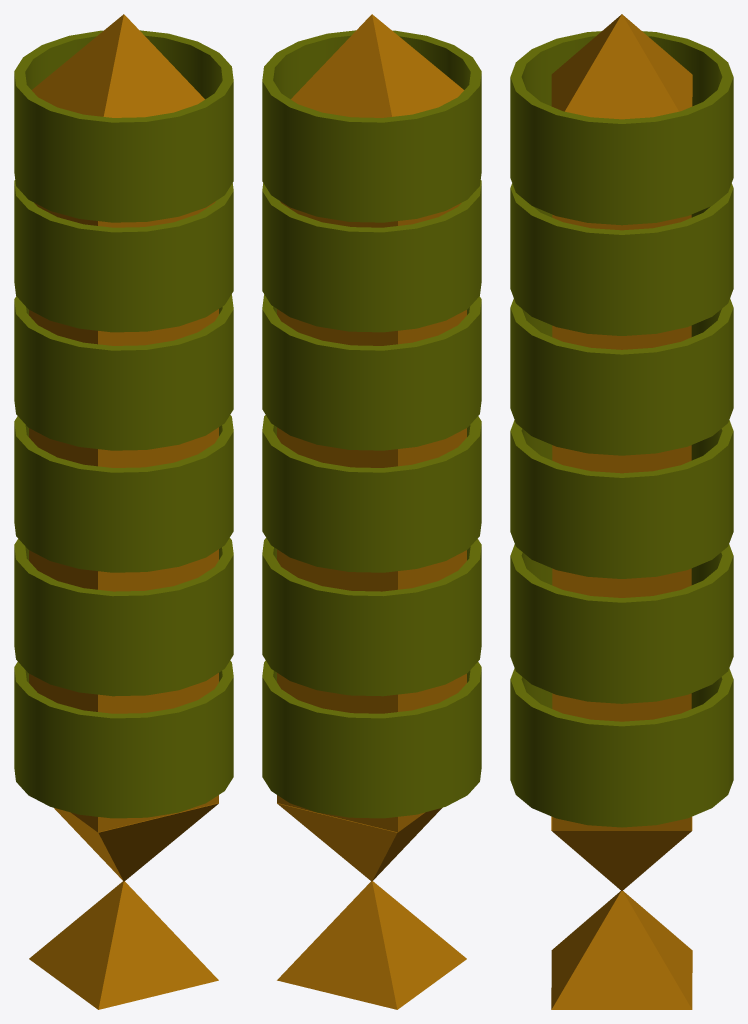
File: Acciavatti_obeliskWithring.fbx
3 views of the same model, side by side, from view 1: azimuth 30°, elevation 25°; view 2: azimuth 150°, elevation 25°; view 3: azimuth 270°, elevation 25° (orthographic).
Visible parts, largest first — view 1: topRing6, Ring2, botRing1, Ring3, Ring4, Ring5, ObeliskBody, ObelsikStand, TopObelisk, botObelisk; view 2: topRing6, Ring2, botRing1, Ring3, Ring4, Ring5, ObeliskBody, ObelsikStand, TopObelisk, botObelisk; view 3: topRing6, Ring2, botRing1, Ring3, Ring4, Ring5, ObelsikStand, ObeliskBody, TopObelisk, botObelisk.
Part boxes in pixels (left/top/right/bottom): topRing6: left=14, top=30, right=233, bottom=222; Ring2: left=14, top=538, right=233, bottom=696; botRing1: left=14, top=660, right=233, bottom=818; Ring3: left=14, top=415, right=233, bottom=572; Ring4: left=14, top=294, right=233, bottom=450; Ring5: left=14, top=180, right=233, bottom=332; ObeliskBody: left=29, top=201, right=218, bottom=832; ObelsikStand: left=29, top=881, right=218, bottom=1009; TopObelisk: left=32, top=14, right=204, bottom=117; botObelisk: left=54, top=803, right=218, bottom=881; topRing6: left=262, top=30, right=481, bottom=222; Ring2: left=262, top=538, right=481, bottom=696; botRing1: left=262, top=660, right=481, bottom=818; Ring3: left=262, top=415, right=481, bottom=572; Ring4: left=262, top=294, right=481, bottom=450; Ring5: left=262, top=180, right=481, bottom=332; ObeliskBody: left=277, top=201, right=466, bottom=832; ObelsikStand: left=277, top=881, right=466, bottom=1009; TopObelisk: left=291, top=14, right=463, bottom=117; botObelisk: left=277, top=803, right=442, bottom=881; topRing6: left=510, top=31, right=733, bottom=225; Ring2: left=510, top=544, right=733, bottom=703; botRing1: left=510, top=668, right=733, bottom=827; Ring3: left=510, top=420, right=733, bottom=578; Ring4: left=510, top=298, right=733, bottom=455; Ring5: left=510, top=183, right=733, bottom=335; ObelsikStand: left=551, top=891, right=692, bottom=1009; ObeliskBody: left=552, top=214, right=691, bottom=830; TopObelisk: left=551, top=14, right=692, bottom=119; botObelisk: left=551, top=816, right=692, bottom=890.
Bounding box in the file's own units: 2.49 × 11.89 × 2.49.
